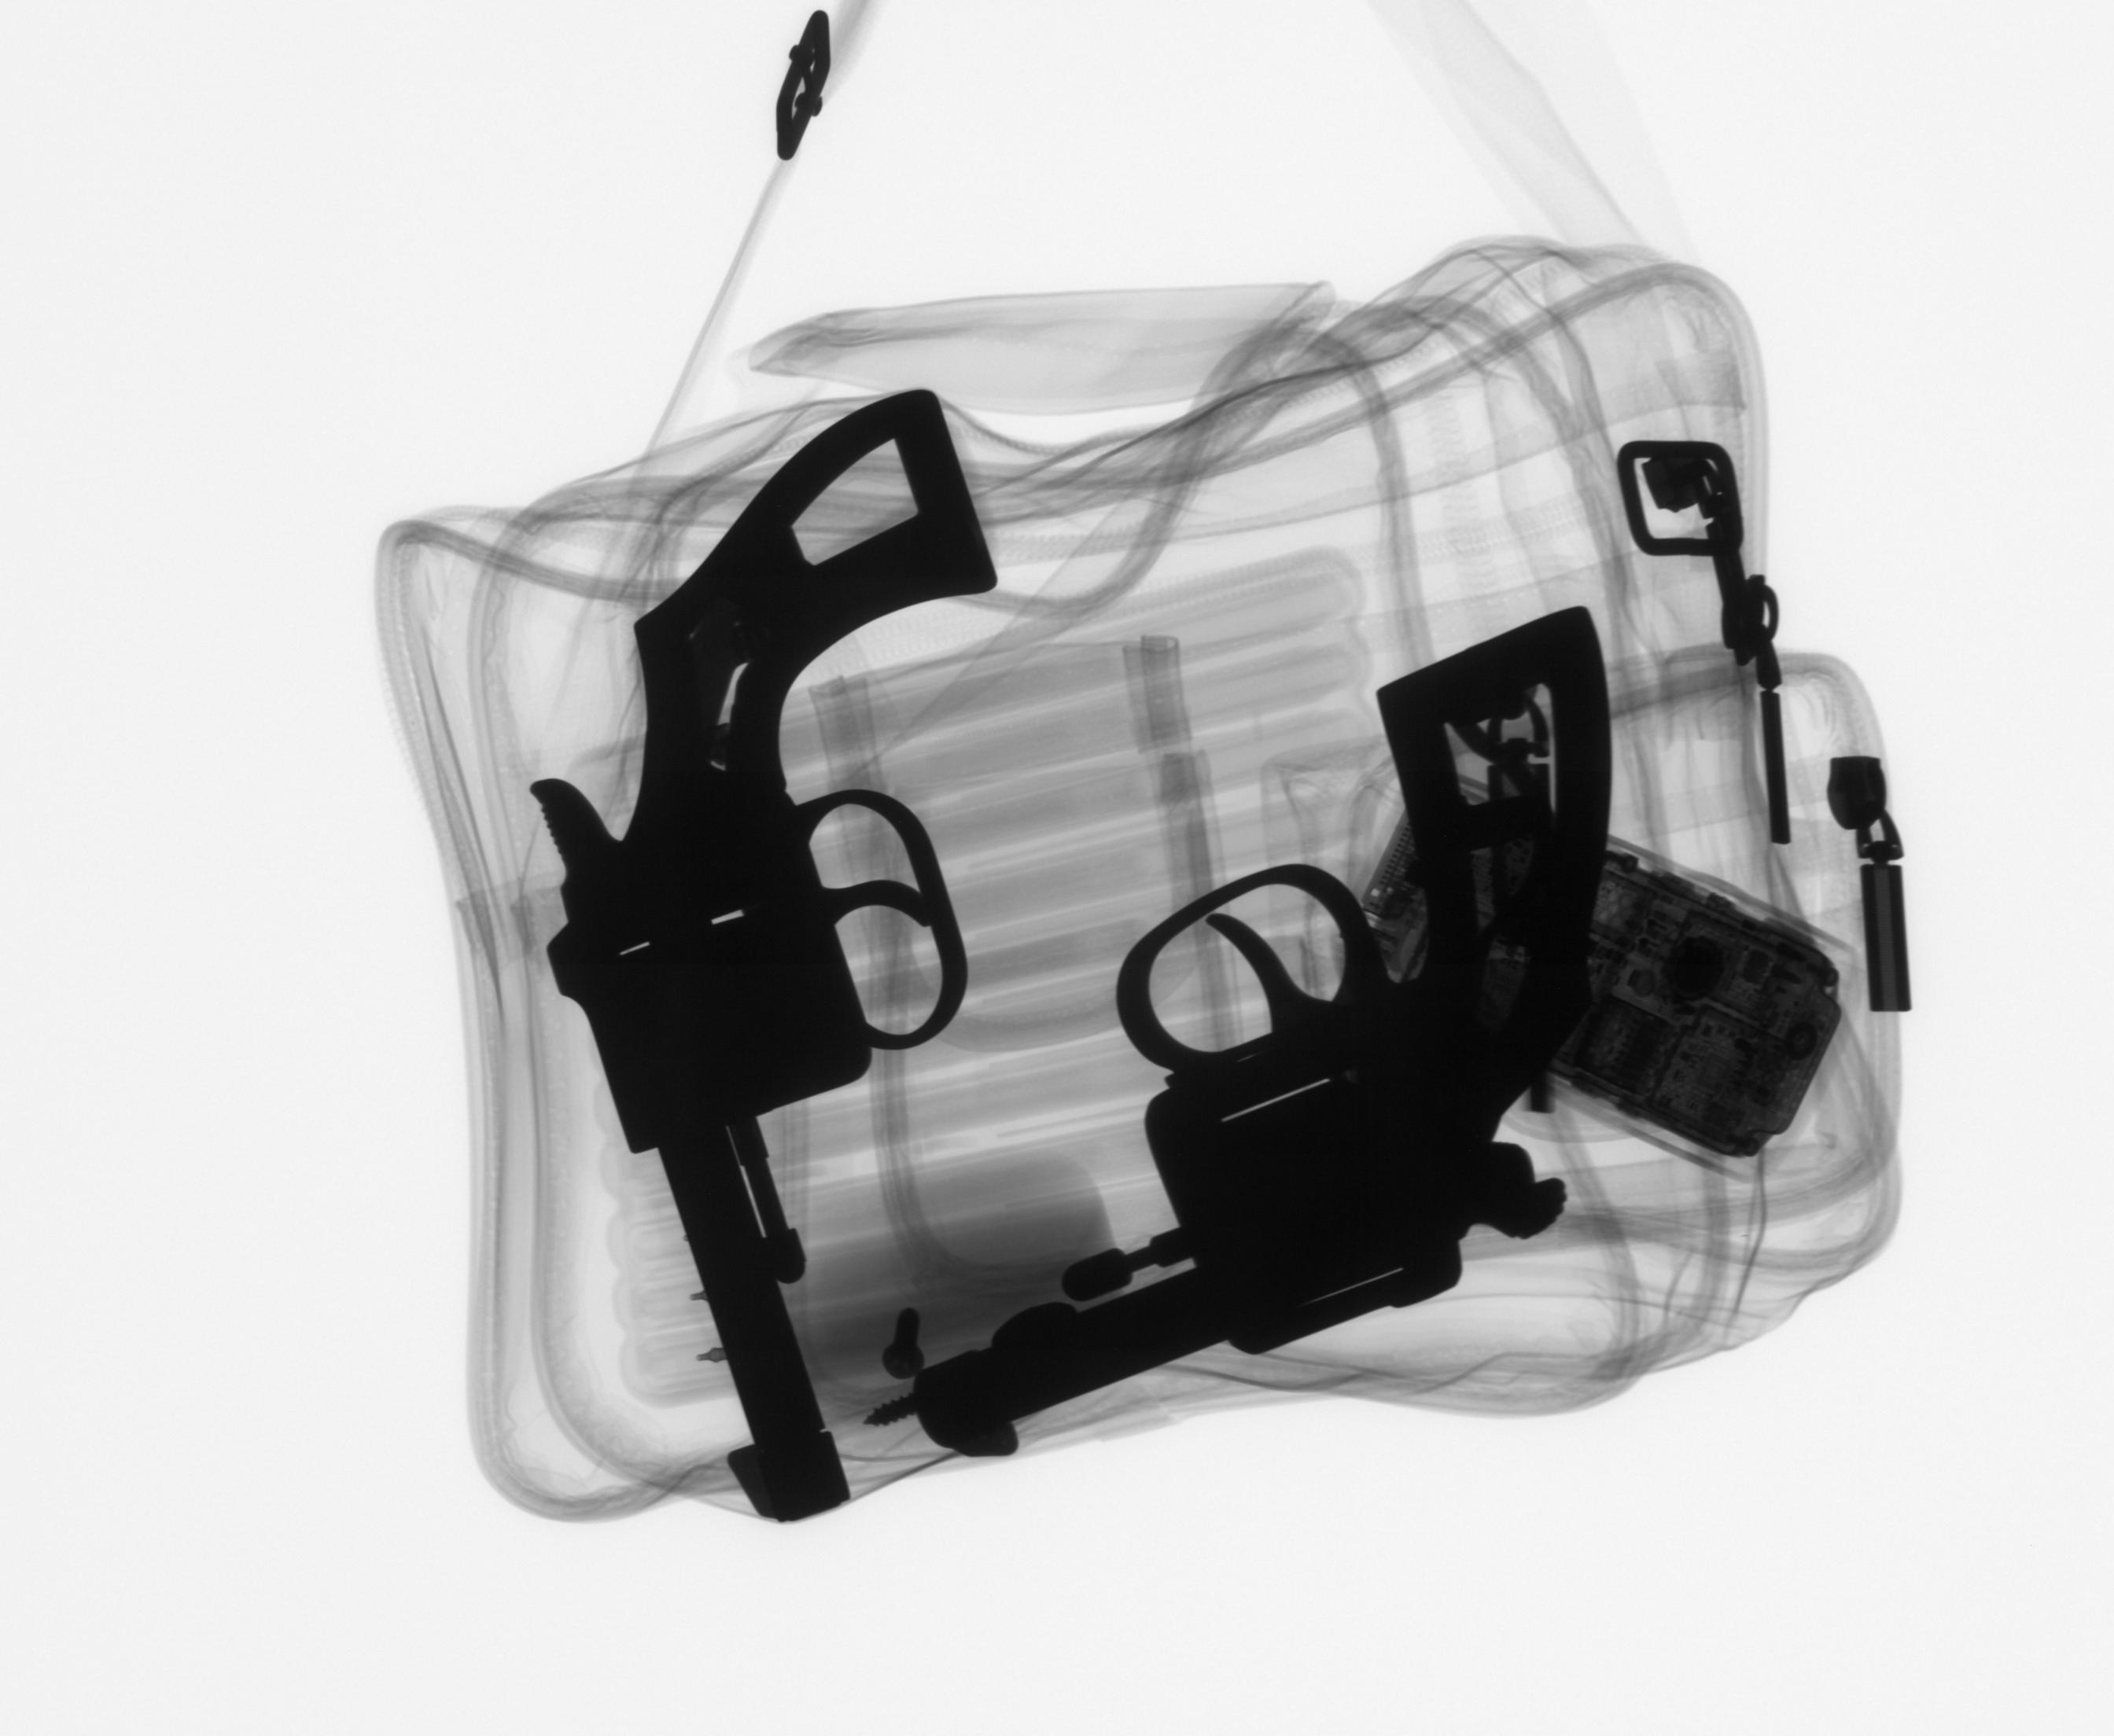Handgun: (902, 598, 1620, 1470), (519, 381, 1008, 1530)
